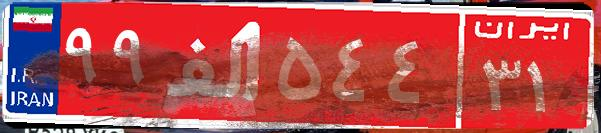1: (525, 38, 570, 115)
3: (475, 38, 525, 113)
4: (385, 28, 445, 110), (330, 28, 385, 110)
5: (273, 28, 330, 110)
9: (57, 26, 110, 107), (110, 28, 158, 105)
الف: (158, 15, 273, 115)
